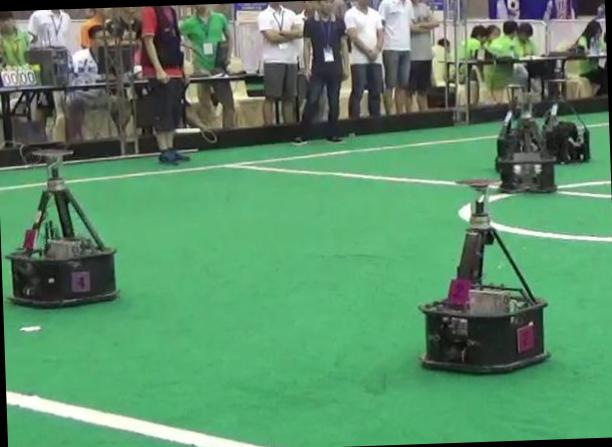person: (141, 5, 188, 163)
robot: (419, 179, 549, 372), (6, 162, 115, 304), (497, 84, 556, 191), (542, 78, 590, 162)
